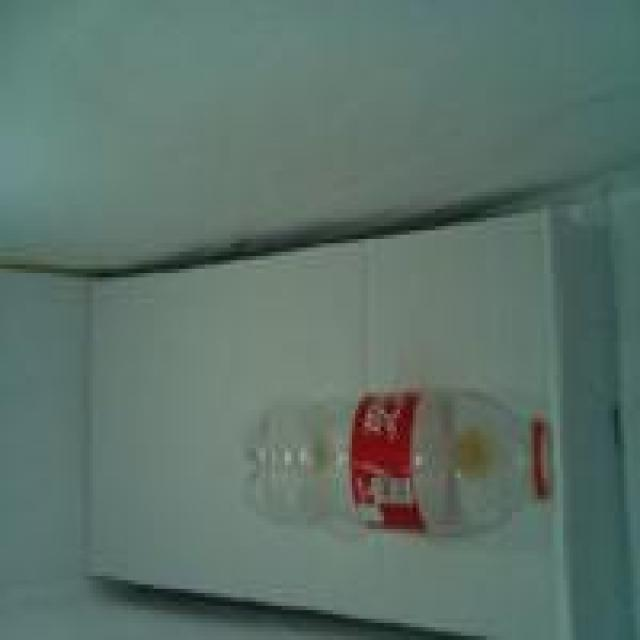bottle: (229, 371, 578, 552)
